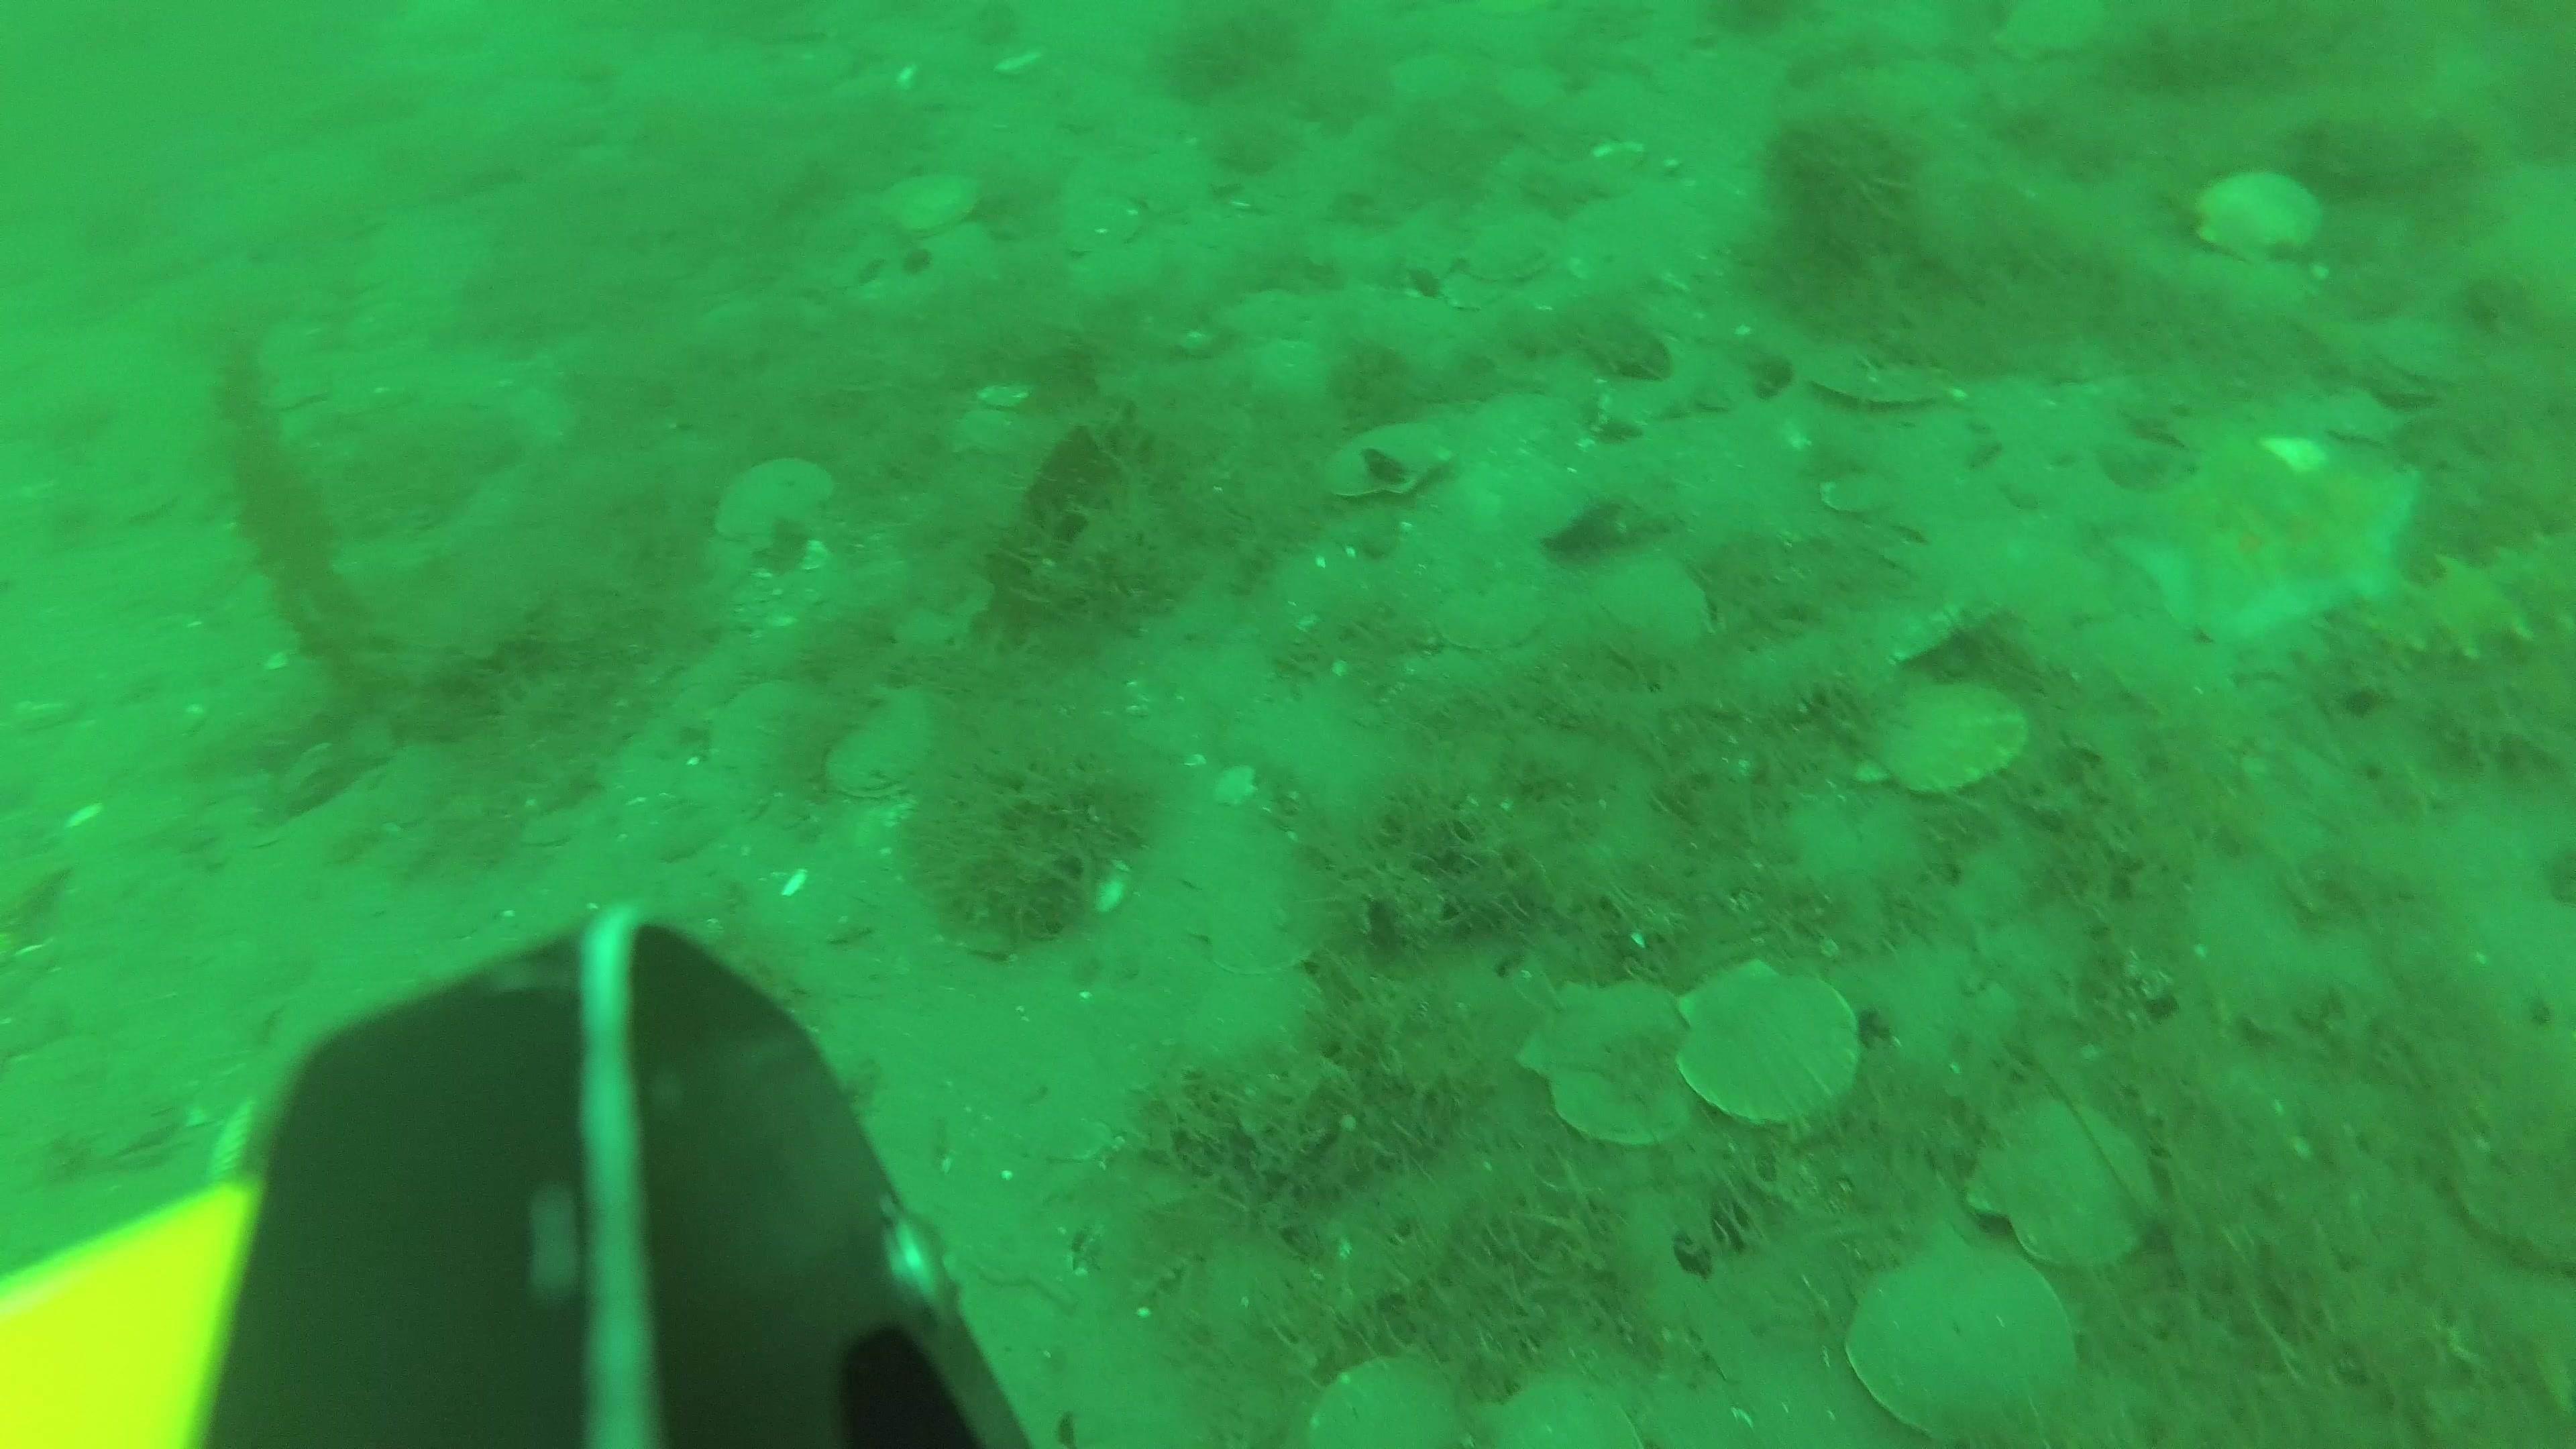holothurian: (2296, 529, 2576, 697)
scallop: (1845, 1258, 2088, 1433), (1523, 977, 1713, 1152), (1677, 959, 1867, 1132), (1976, 1099, 2164, 1272), (1861, 671, 2026, 801), (1541, 184, 1706, 313), (2192, 166, 2327, 278), (1311, 419, 1461, 513), (717, 455, 851, 559), (1599, 556, 1721, 669), (823, 695, 954, 794), (1307, 1366, 1463, 1449), (1495, 1376, 1654, 1449), (1808, 341, 1946, 412), (372, 743, 469, 835), (1467, 212, 1571, 292), (1996, 2, 2107, 73), (886, 173, 985, 248), (1247, 343, 1338, 414), (1063, 196, 1150, 267), (1398, 50, 1472, 108)
starfish: (2100, 419, 2424, 663)
